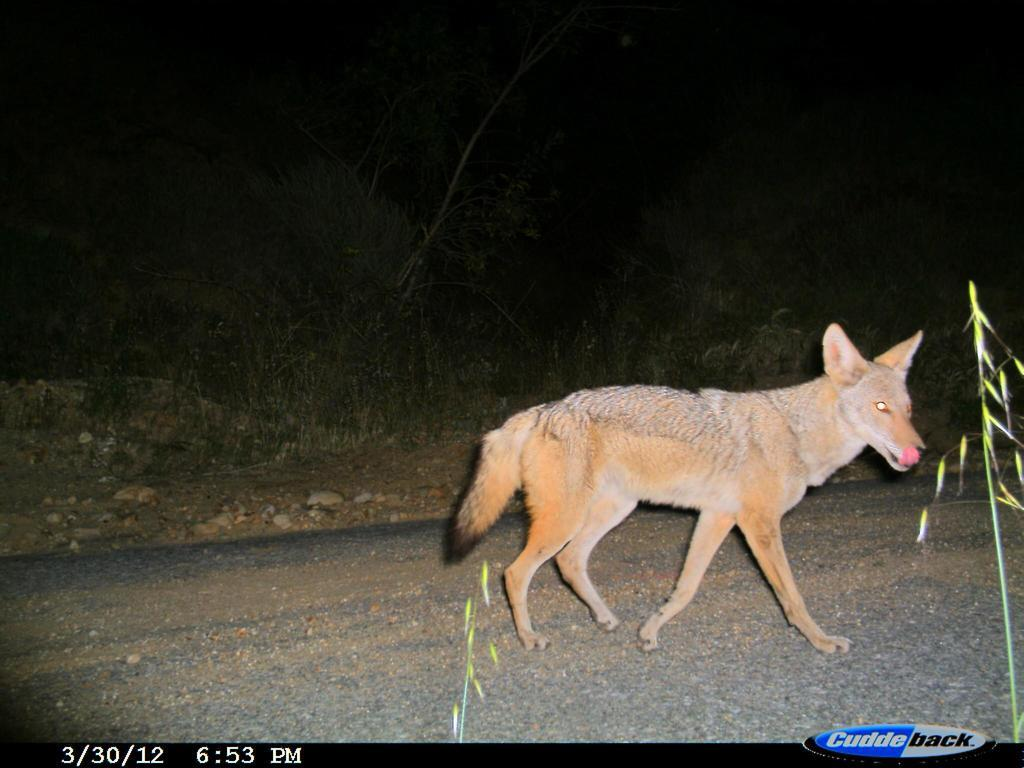coyote: (433, 309, 939, 665)
